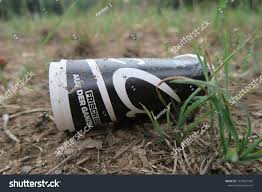paper_cup: (46, 53, 215, 132)
